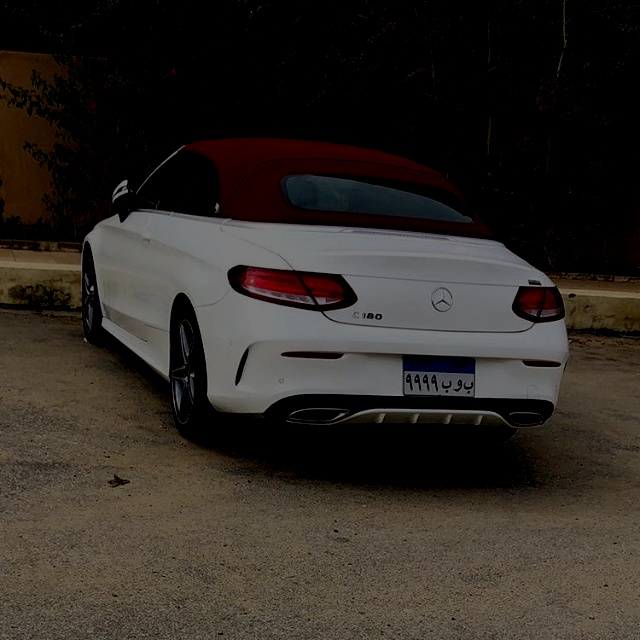License Plate: (402, 352, 477, 399)
